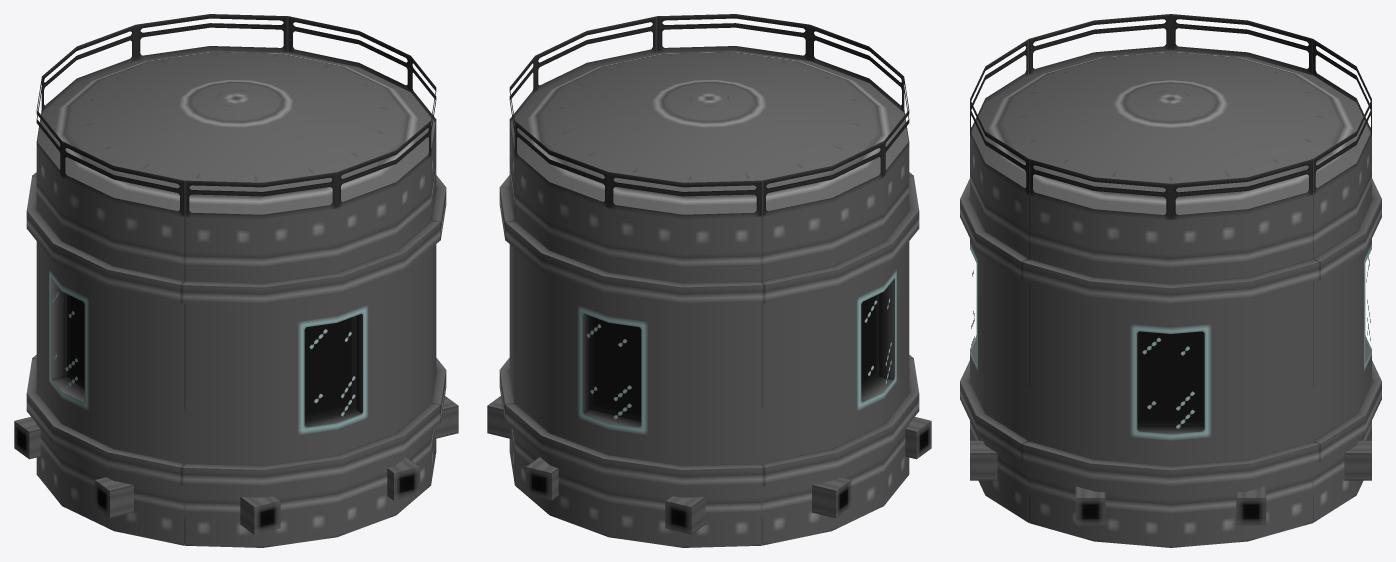
The model's file is bat9000.obj.
The picture shows the model from 3 angles, left to right: view 1: azimuth 30°, elevation 25°; view 2: azimuth 150°, elevation 25°; view 3: azimuth 270°, elevation 25°; orthographic projection.
Visible parts, largest first — view 1: Circle; view 2: Circle; view 3: Circle.
Boxes of the visible parts, x1,y1,x2,y2 form: Circle: [14, 14, 458, 547]; Circle: [487, 14, 931, 547]; Circle: [960, 14, 1381, 547].
Bounding box in the file's own units: 5.25 × 5 × 5.25.
